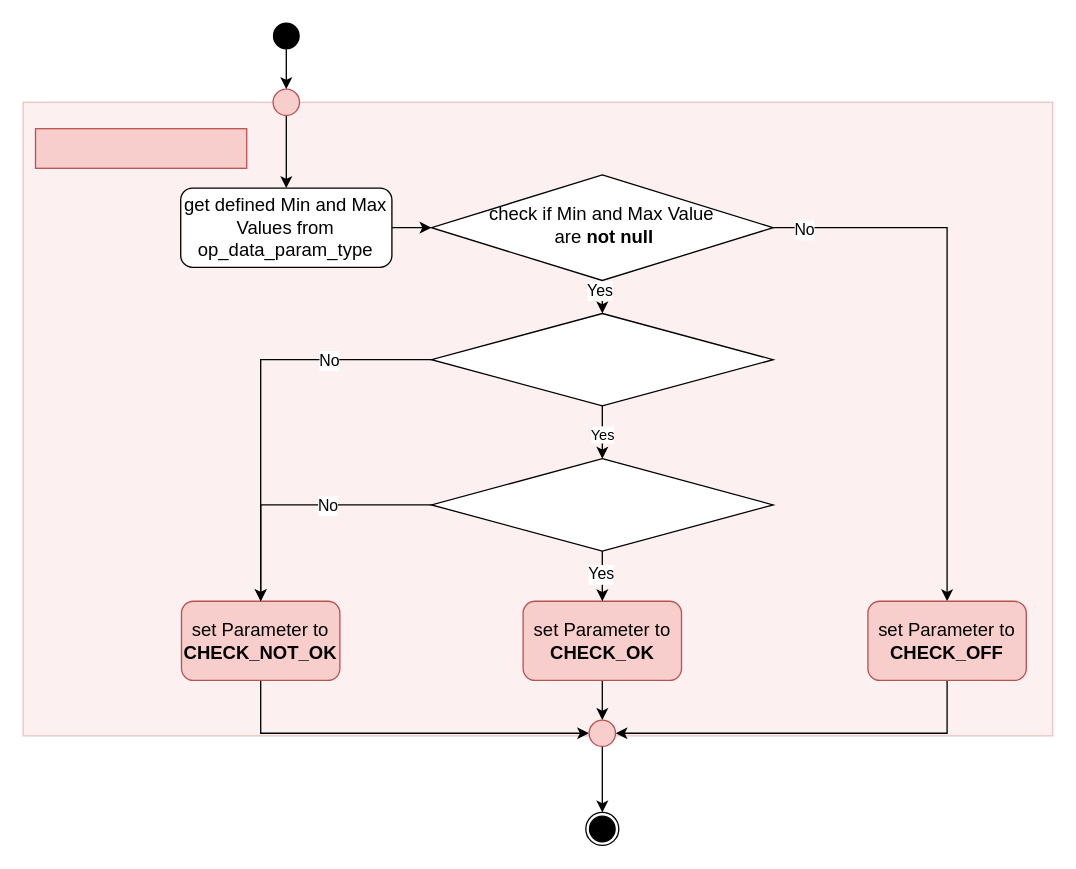
Image size: 1076x869. Some labels were removed from this diagram. Each missing label, with the centre of its shape:
"check if PlanValue is not null" belongs at point (601, 359).
"check if planValue is within Min and Max Value" belongs at point (601, 504).
"for each Parameter" belongs at point (140, 147).
